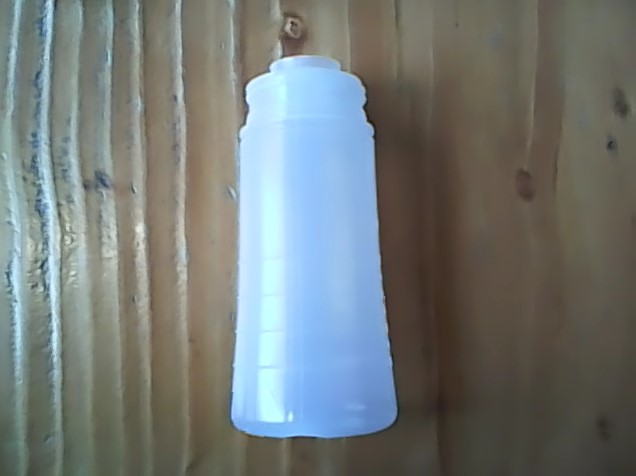Plastic: (226, 53, 400, 445)
